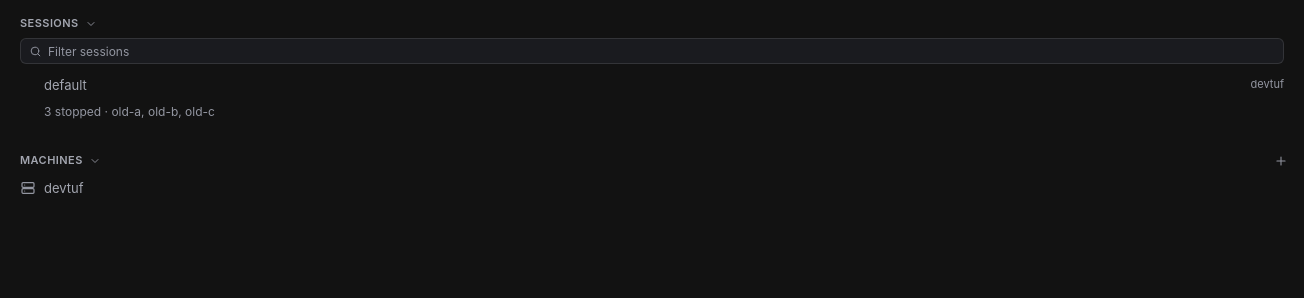
Stopped Sessions fold › folds two or more stopped Sessions into one row that names them, and a click opens it
Click the button "3 stopped · old-a, old-b, old-c": click(76, 111) [12,100,1292,124]
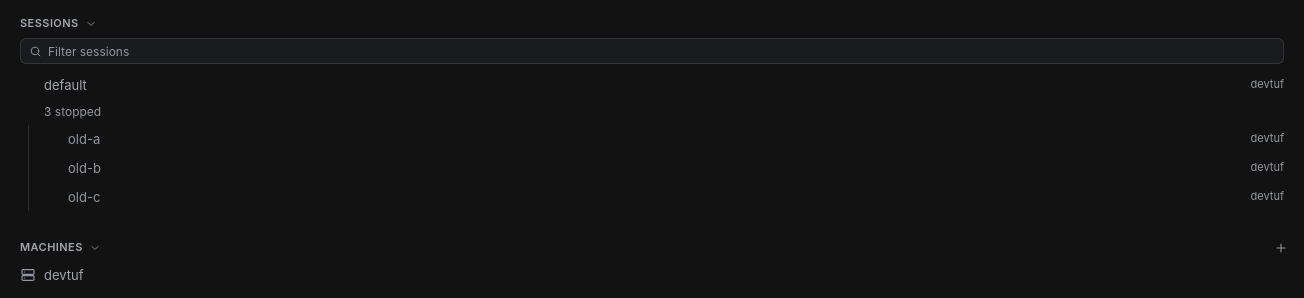
Now the button "3 stopped" is expanded, box [12,100,1292,124]
Now the button "old-a devtuf" is shown, box [36,125,1292,153]
